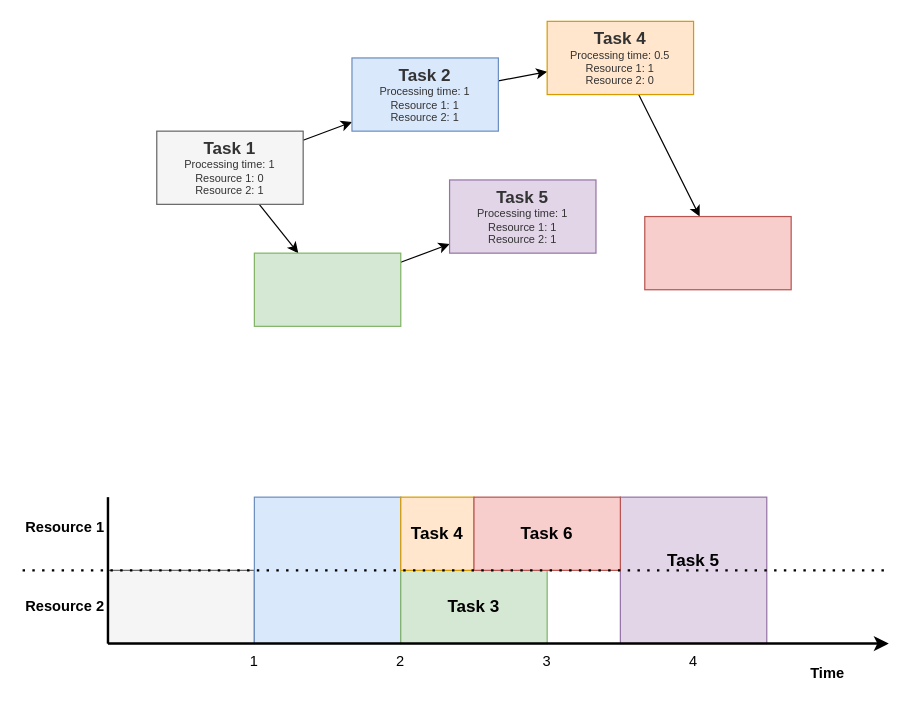
Image size: 920x714. Some labels were removed from this diagram. The centre of each missing label's shape, as x and y in pixels:
Task 1: [180,606]
Task 2: [327,570]
Task 3 Processing time: 1 Resource 1: 0 Resource 2: 1: [327,289]
Task 6 Processing time: 1 Resource 1: 1 Resource 2: 0: [717,252]
